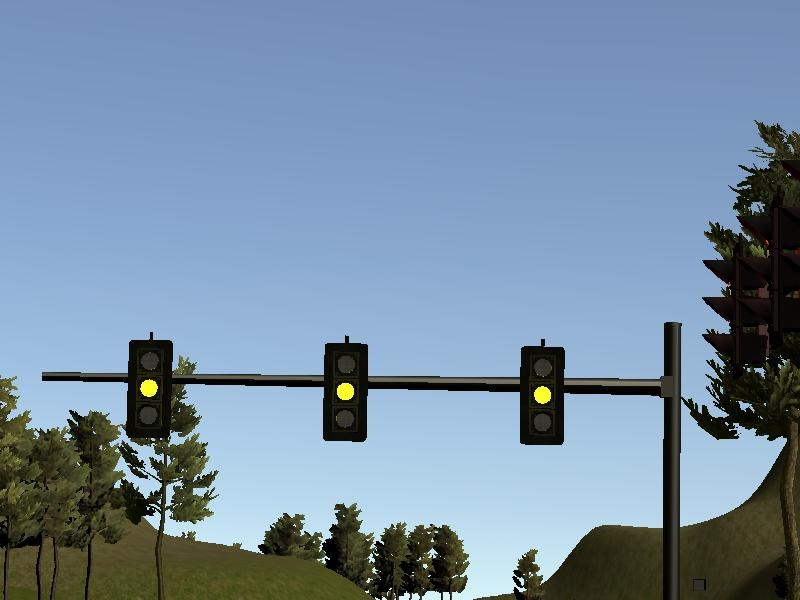YELLOW: (517, 338, 565, 448), (126, 331, 174, 441), (321, 336, 369, 443)
